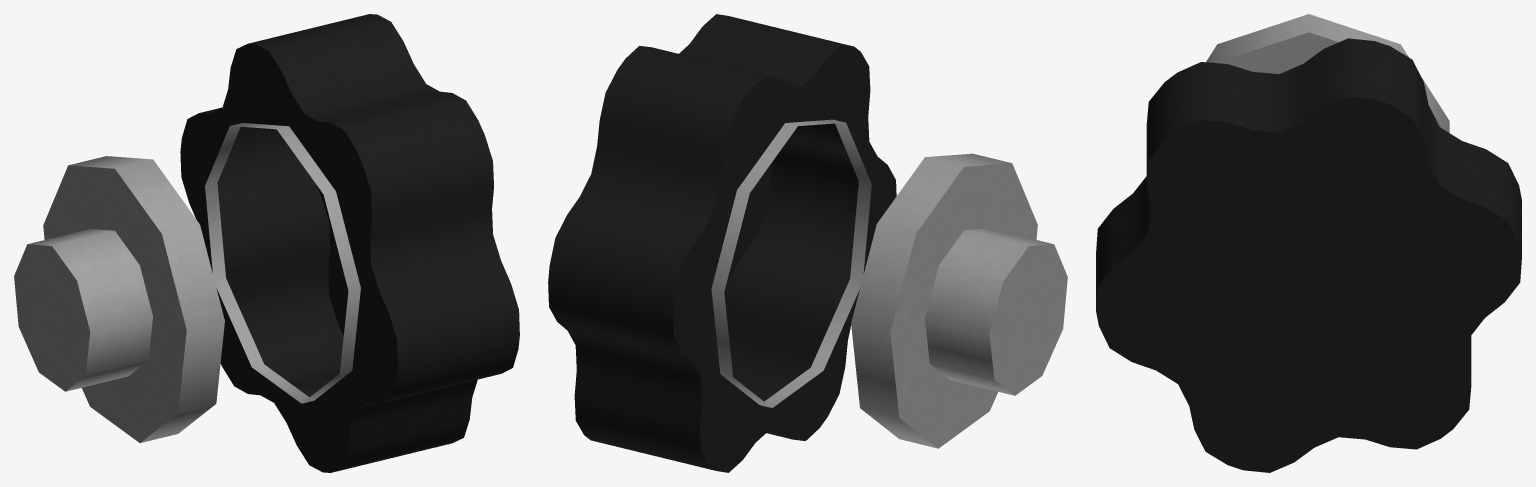
Rendered from SM_光谱仪_旋扭01.FBX.
3 views of the same model, side by side, from view 1: azimuth 30°, elevation 25°; view 2: azimuth 150°, elevation 25°; view 3: azimuth 270°, elevation 25° (orthographic). The views are drawn at different scales.
Parts seen in each view (by area): view 1: SM_光谱仪_旋扭01; view 2: SM_光谱仪_旋扭01; view 3: SM_光谱仪_旋扭01.
Boxes of the visible parts, box(x1,y1,x2,y2) form: SM_光谱仪_旋扭01: box(14, 14, 519, 472); SM_光谱仪_旋扭01: box(548, 14, 1067, 472); SM_光谱仪_旋扭01: box(1096, 14, 1521, 472).
Bounding box in the file's own units: 0.0396 × 0.0405 × 0.0416.
